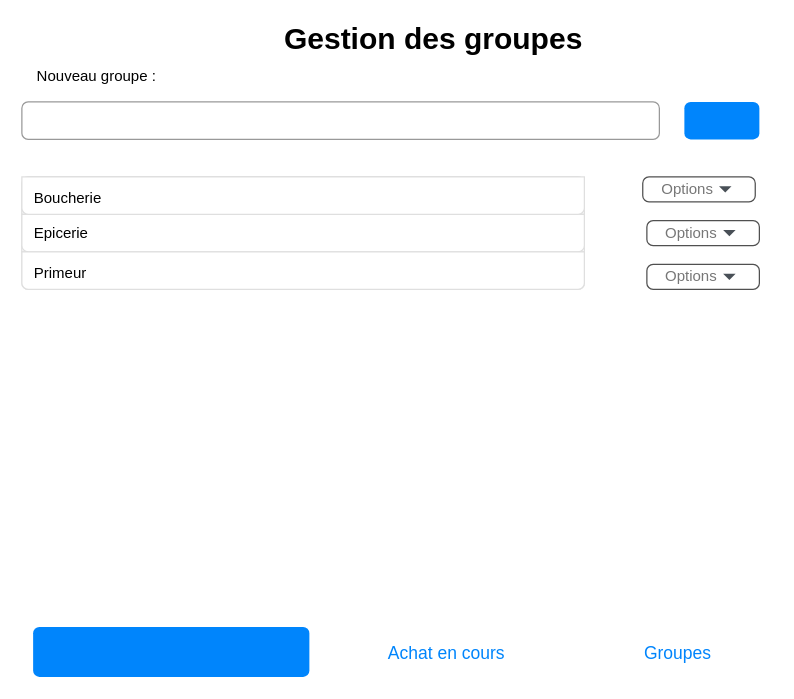
Some shapes in this 794 by 699 pixel diagram are drawn without their labels. Here are the shapes that lost their labels. From the top down, the box of each, then its label:
(21, 101, 659, 139): Groupe ...
(684, 101, 759, 139): Ajouter
(32, 626, 309, 676): Liste achats
